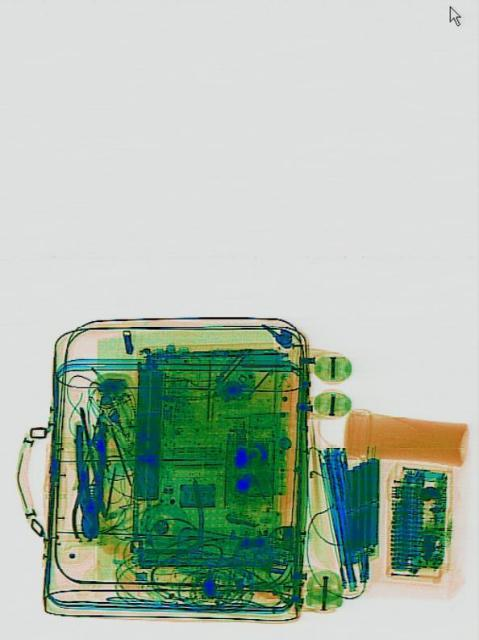Pliers: (71, 423, 106, 537), (69, 462, 94, 540)
